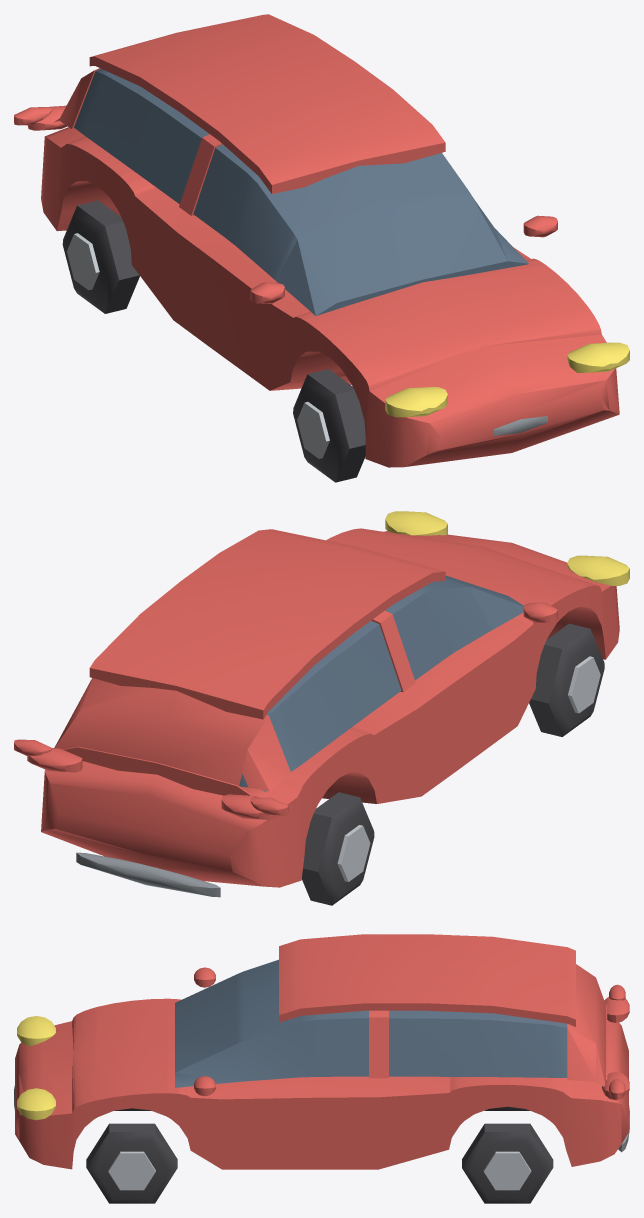
File: voiture-CRLsYxX9.glb
3 views of the same model, one above another, from view 1: azimuth 30°, elevation 25°; view 2: azimuth 150°, elevation 25°; view 3: azimuth 270°, elevation 25° (orthographic). The views are drawn at different scales.
Parts seen in each view (by area): view 1: carrosserie, roues; view 2: carrosserie, roues; view 3: carrosserie, roues.
Part boxes in pixels (x1=…): carrosserie: x1=14, y1=14, x2=629, y2=467; roues: x1=62, y1=200, x2=365, y2=482; carrosserie: x1=14, y1=511, x2=629, y2=897; roues: x1=301, y1=623, x2=604, y2=905; carrosserie: x1=14, y1=934, x2=629, y2=1169; roues: x1=86, y1=1106, x2=553, y2=1203.
Bounding box in the file's own units: 2.01 × 1.45 × 4.32.
